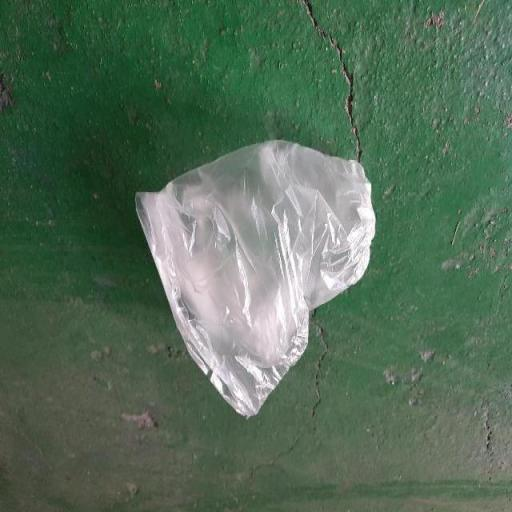plastic-bag: (130, 138, 378, 424)
